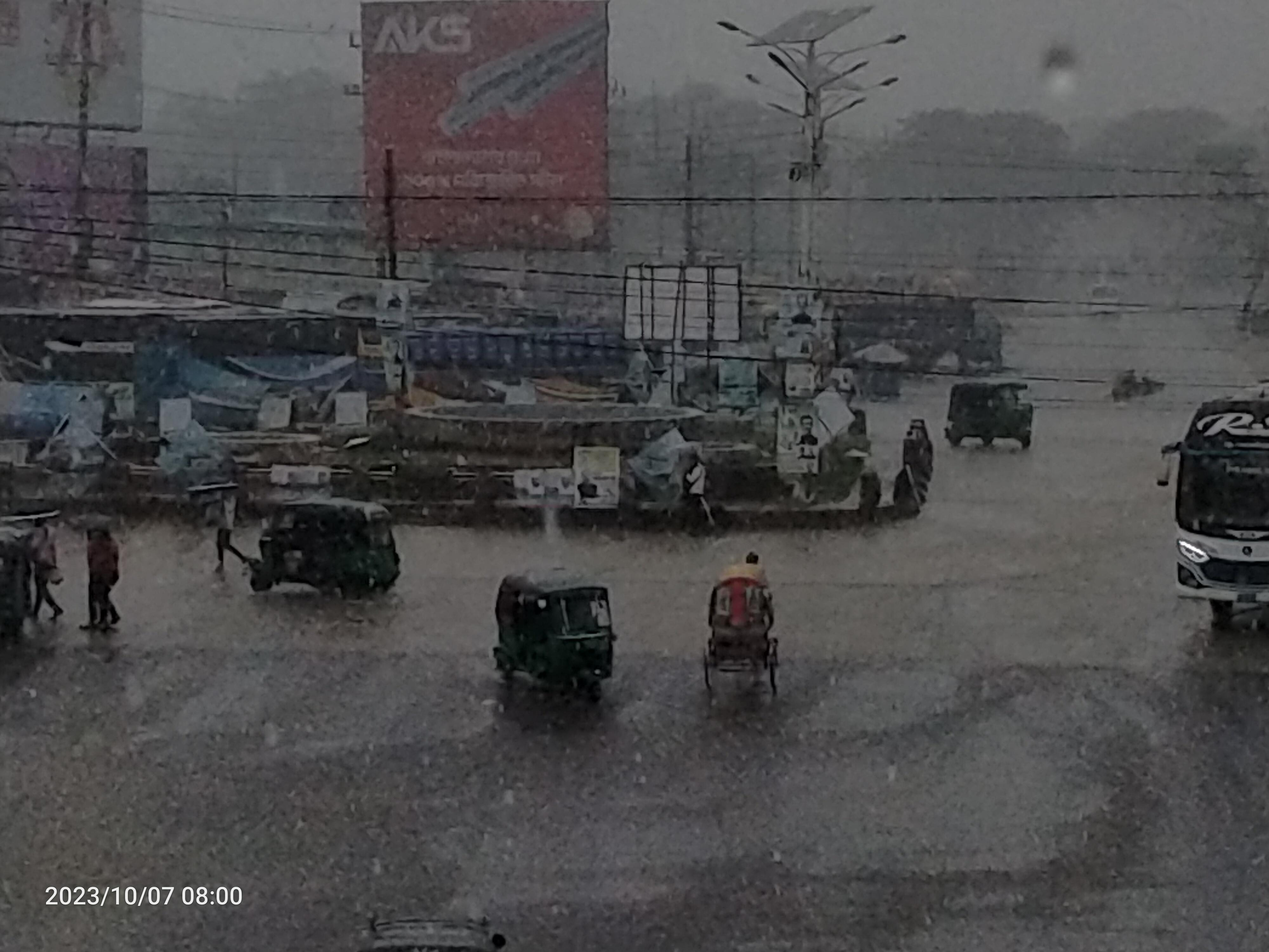Bus: (0, 288, 378, 468), (1147, 373, 1269, 675), (391, 308, 668, 414)
Car: (684, 535, 807, 719), (1079, 272, 1134, 341)
